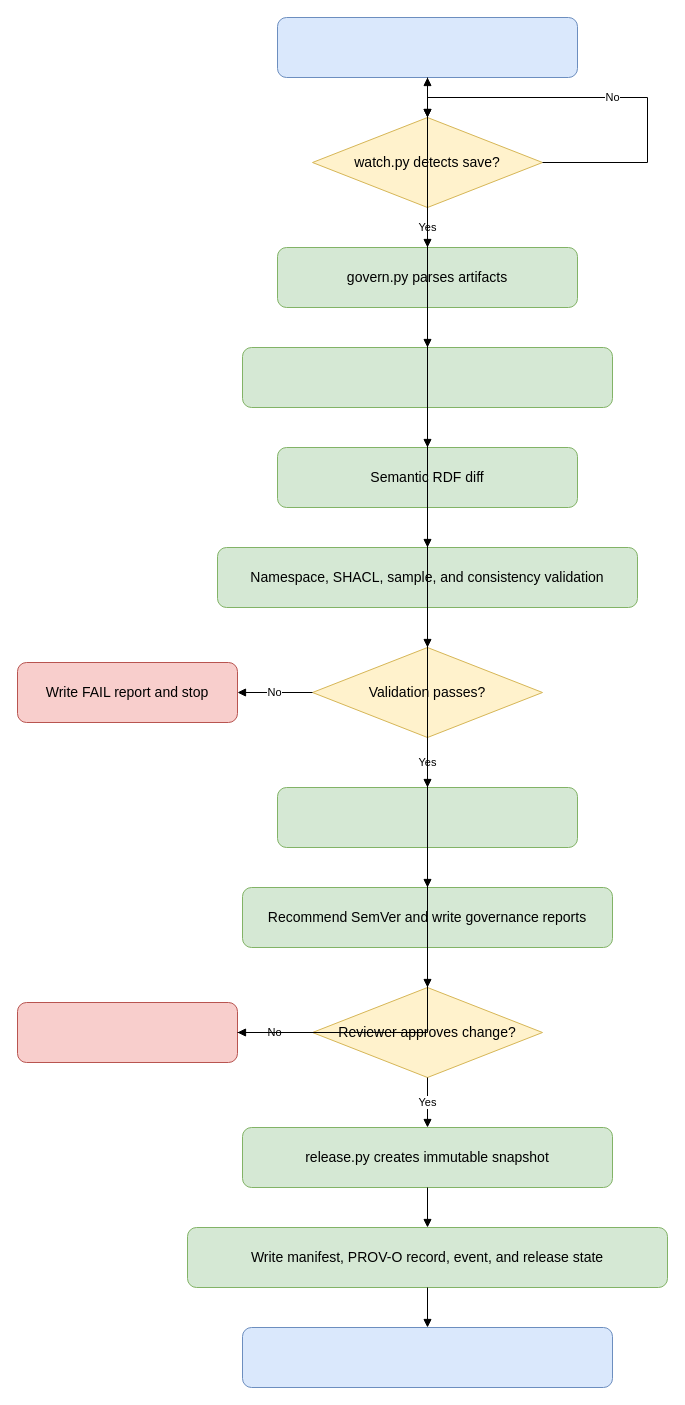
This 685x1405 diagram has some shape labels left out. The box of each missing label's shape, as (x1, y1, x2, y2) in pixels:
Classify NONE, PATCH, MINOR, or MAJOR: (276, 786, 578, 848)
Commit and push; CI repeats the gate: (242, 1326, 612, 1388)
Developer edits .ttl or .jsonld: (276, 16, 578, 78)
Load approved release and working RDF graphs: (242, 346, 612, 408)
Revise or reset working tree: (16, 1002, 238, 1062)
